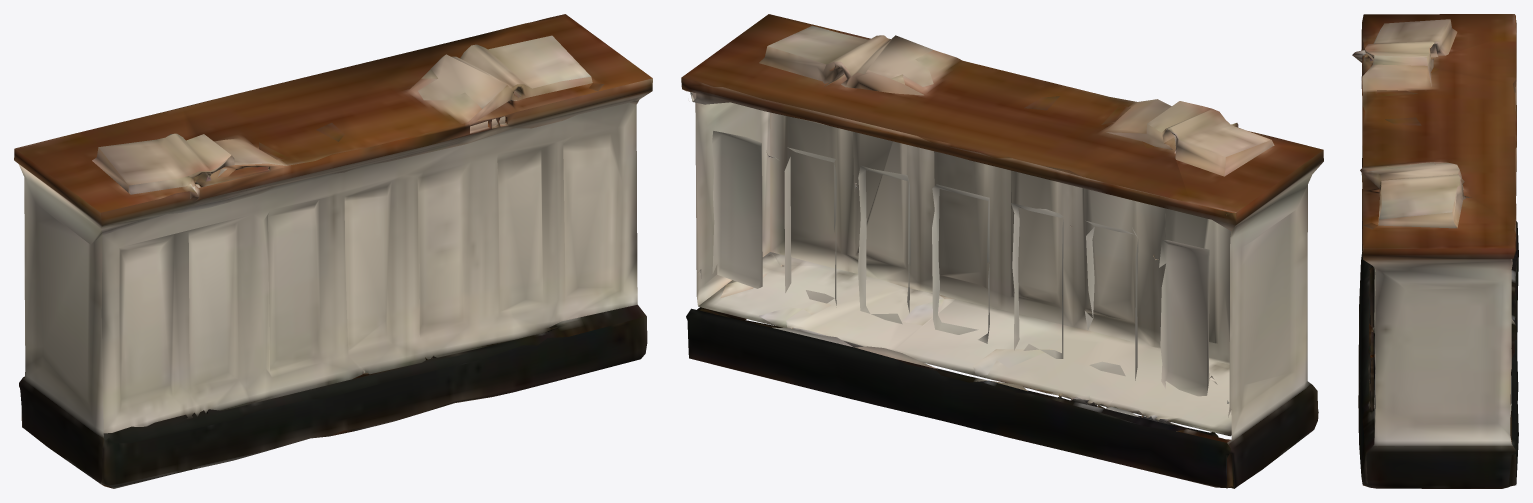
The model's file is meson_enfermeria.movil.glb.
3 renders of one model, left to right at view 1: azimuth 30°, elevation 25°; view 2: azimuth 150°, elevation 25°; view 3: azimuth 270°, elevation 25°, orthographic. The views are drawn at different scales.
Parts seen in each view (by area): view 1: geometry_0; view 2: geometry_0; view 3: geometry_0.
Part boxes in pixels (left/top/right/bottom): geometry_0: left=14, top=14, right=652, bottom=488; geometry_0: left=681, top=14, right=1323, bottom=488; geometry_0: left=1352, top=14, right=1518, bottom=488.
Size of the model in its own units: 2 by 1.05 by 0.6001.
Materials: 1 (1 with a texture image).
